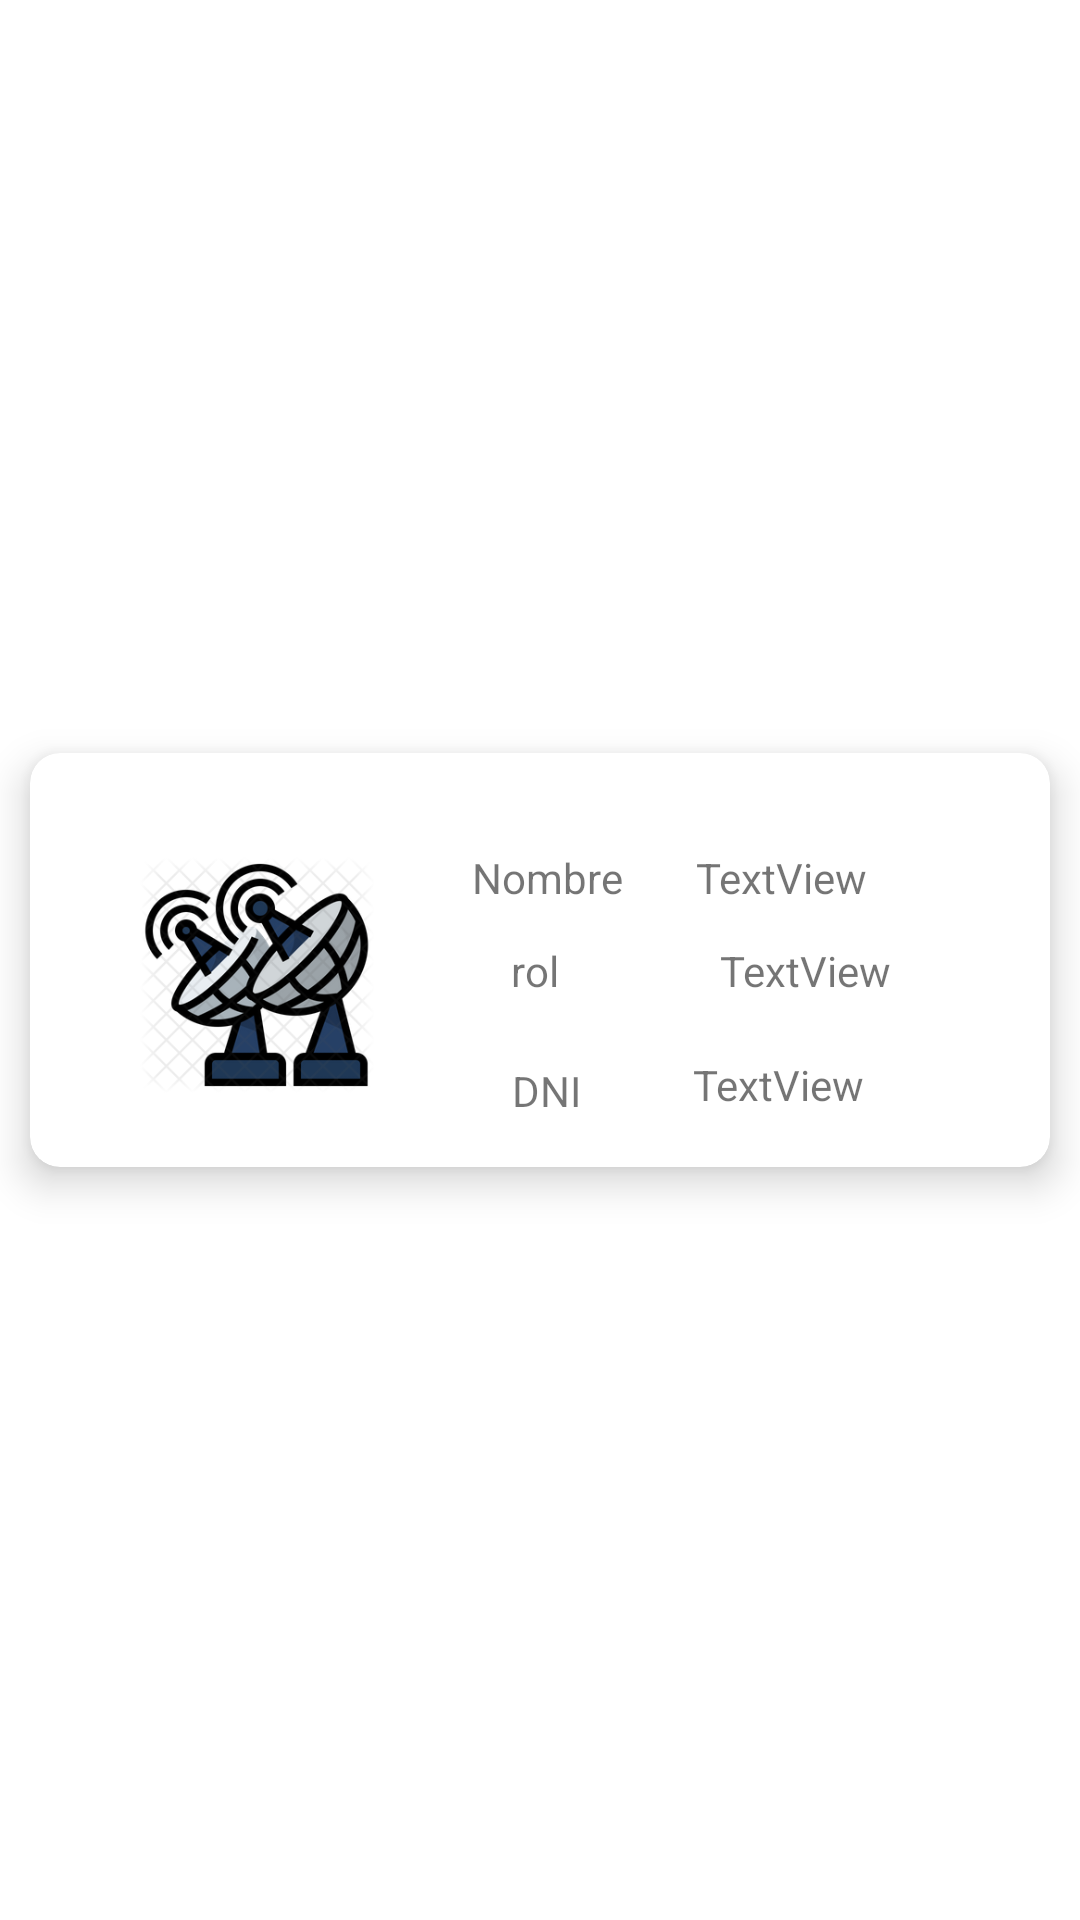

Named icons in this screenshot (1080px x 1920px) and their centers, point (x, y):
tele: point (257, 975)
